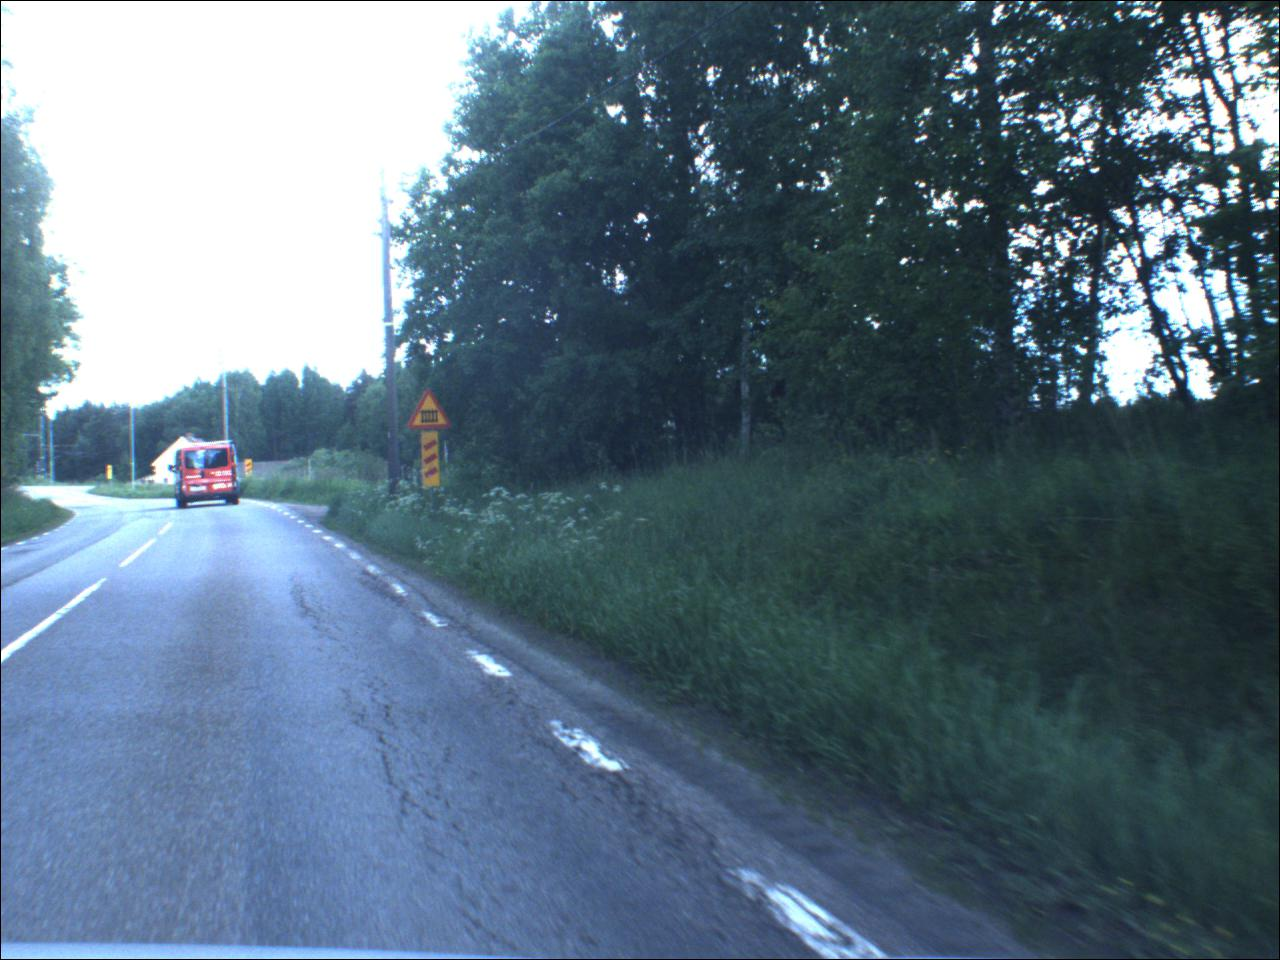WARNING_RAIL_CROSSING: (408, 391, 454, 431)
